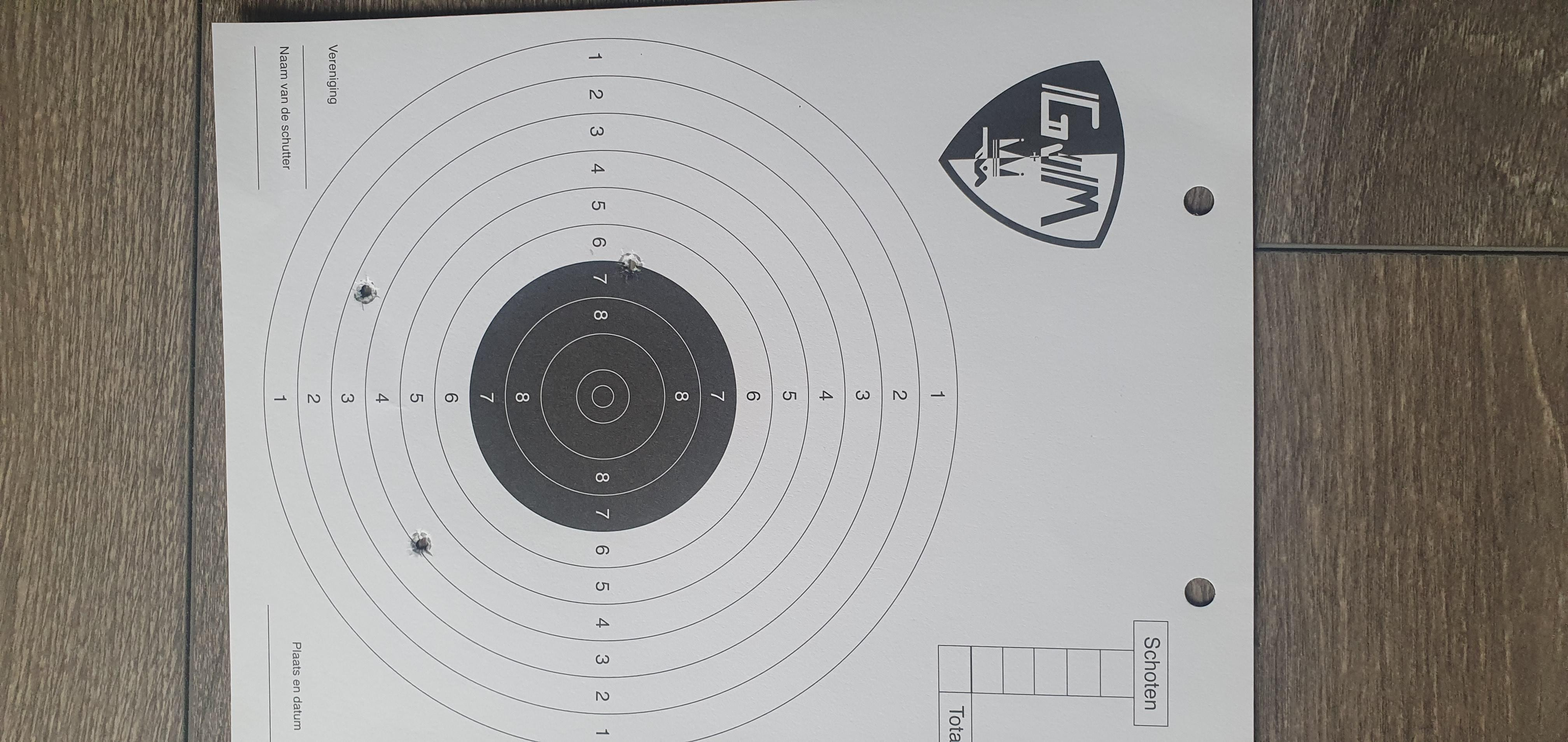hole: (913, 166, 989, 180), (971, 292, 1047, 305), (388, 192, 450, 205)
